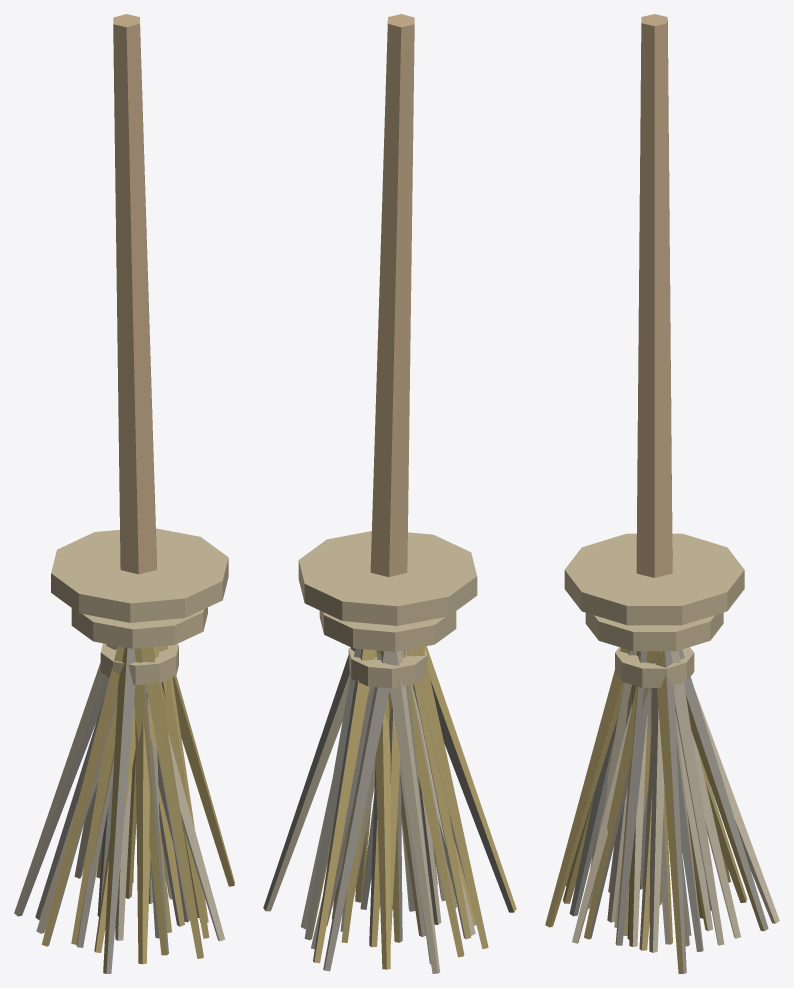
The model's file is broom.glb.
3 renders of one model, left to right at view 1: azimuth 30°, elevation 25°; view 2: azimuth 150°, elevation 25°; view 3: azimuth 270°, elevation 25°, orthographic.
Parts seen in each view (by area): view 1: broom; view 2: broom; view 3: broom.
Part boxes in pixels (<box>): broom: <box>14,14,234,973</box>; broom: <box>263,14,516,973</box>; broom: <box>545,14,779,973</box>.
Bounding box in the file's own units: 0.3134 × 1.3 × 0.308.
